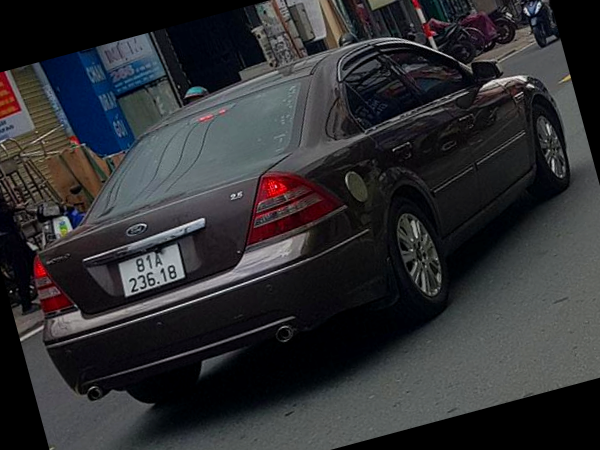lisence: (116, 241, 186, 299)
